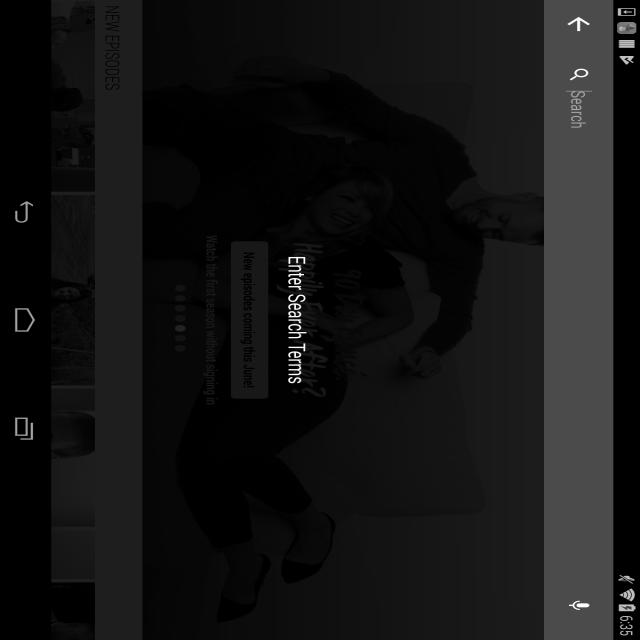EditText: (136, 26, 640, 50)
ImageButton: (9, 17, 68, 60)
ImageView: (102, 30, 136, 46)
TextView: (409, 204, 615, 224)
